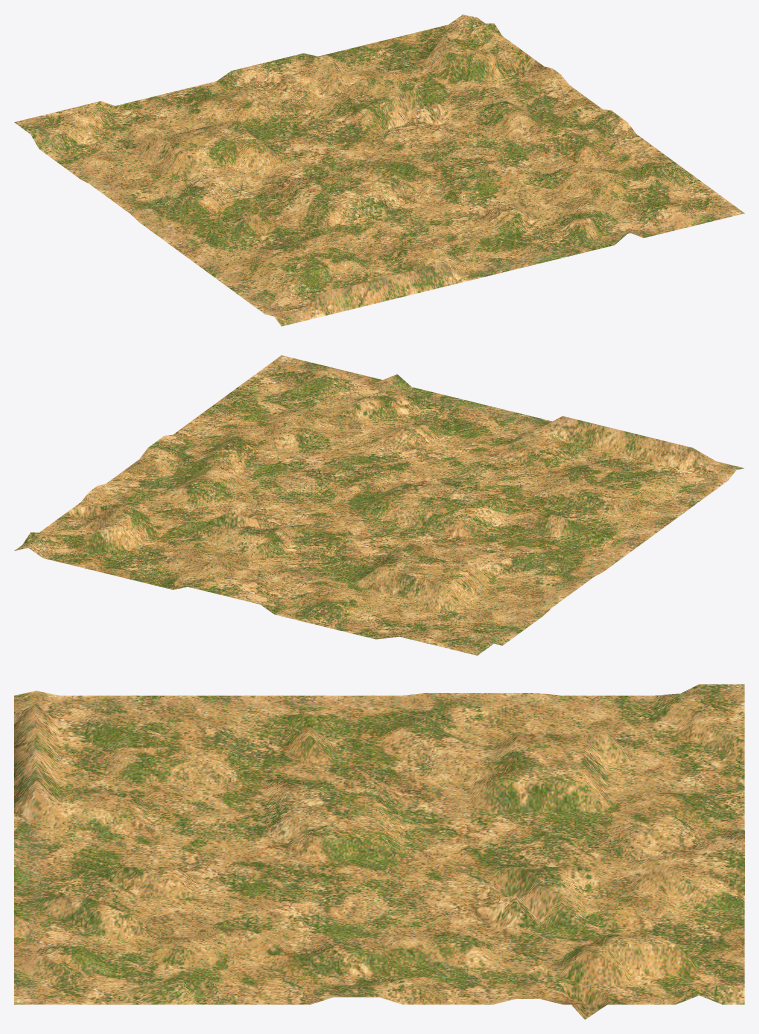
Rendered from Terrain.fbx.
3 views of the same model, one above another, from view 1: azimuth 30°, elevation 25°; view 2: azimuth 150°, elevation 25°; view 3: azimuth 270°, elevation 25° (orthographic). The views are drawn at different scales.
Visible parts, largest first — view 1: Plane; view 2: Plane; view 3: Plane.
Part boxes in pixels (bbox=[...]): Plane: bbox=[14, 14, 744, 326]; Plane: bbox=[14, 355, 743, 655]; Plane: bbox=[14, 684, 744, 1019].
Size of the model in its own units: 36.32 by 2.55 by 36.33.
Materials: 1 (1 with a texture image).
